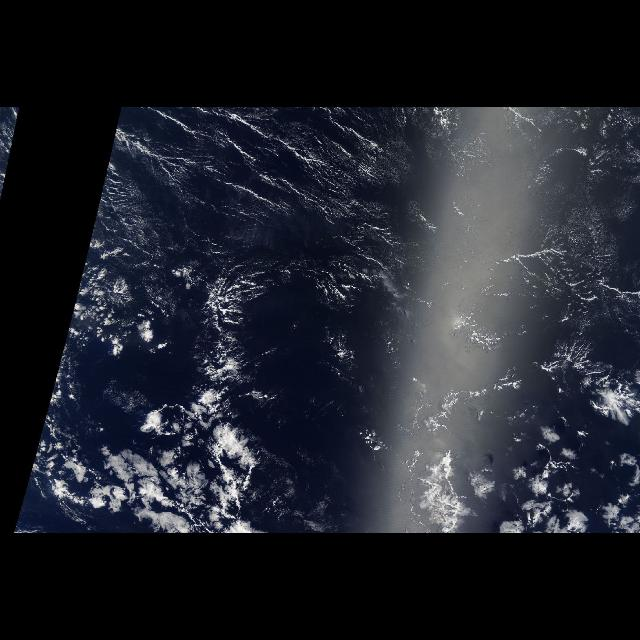Flower: (12, 371, 296, 534), (454, 343, 640, 533)
Sugar: (85, 107, 639, 331), (1, 107, 22, 201)
